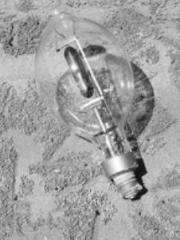lightbulb: (34, 5, 154, 199)
